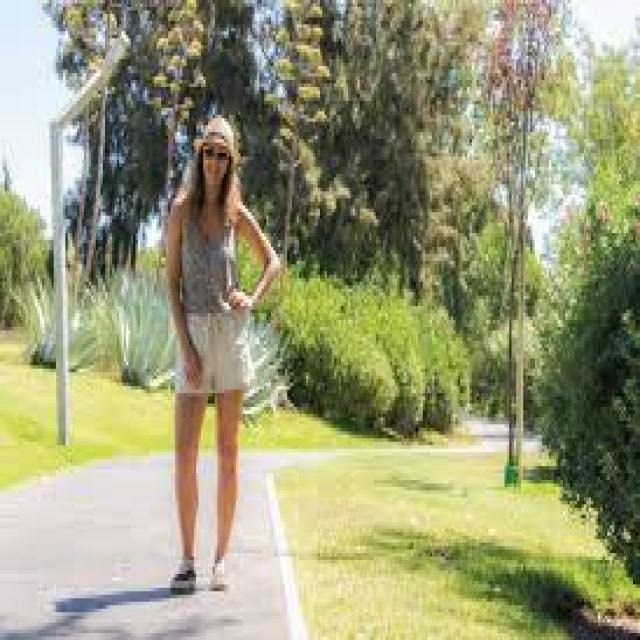adult: (150, 101, 290, 609)
